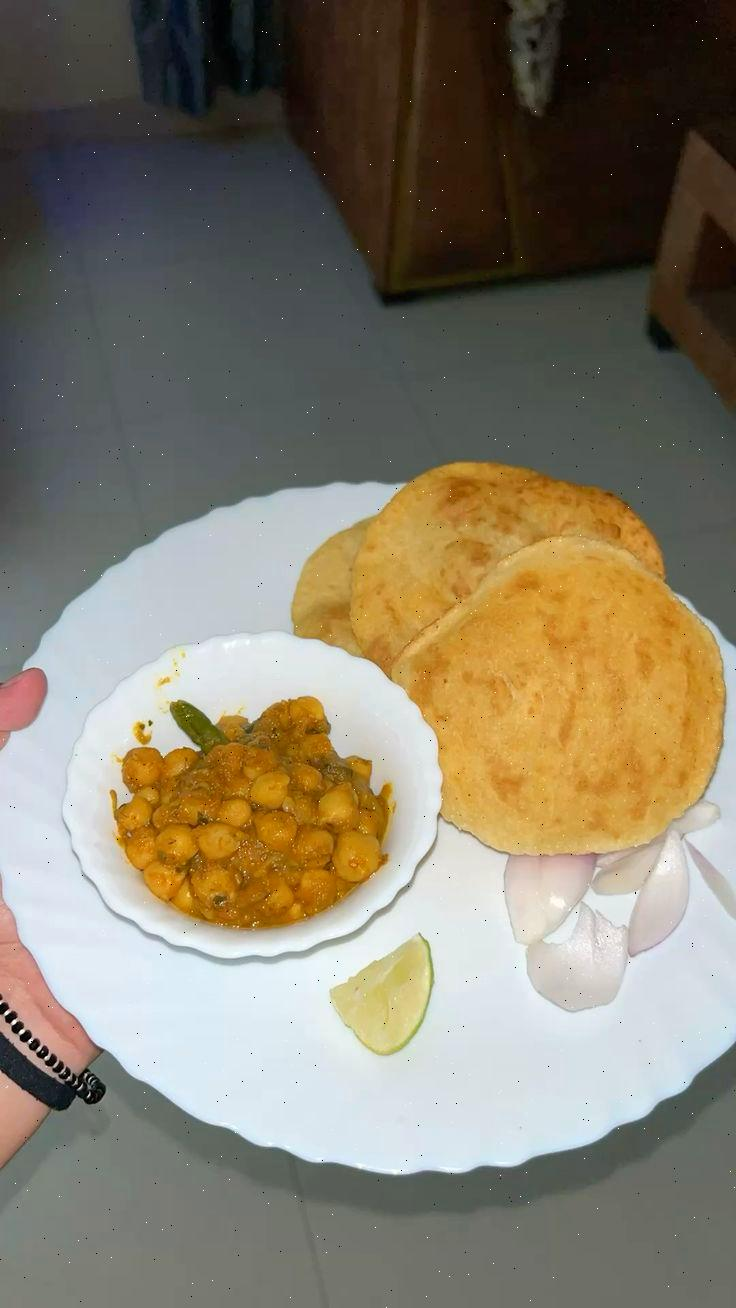chole: (110, 671, 412, 932)
puri: (347, 431, 721, 829)
salad: (320, 848, 723, 1029)
